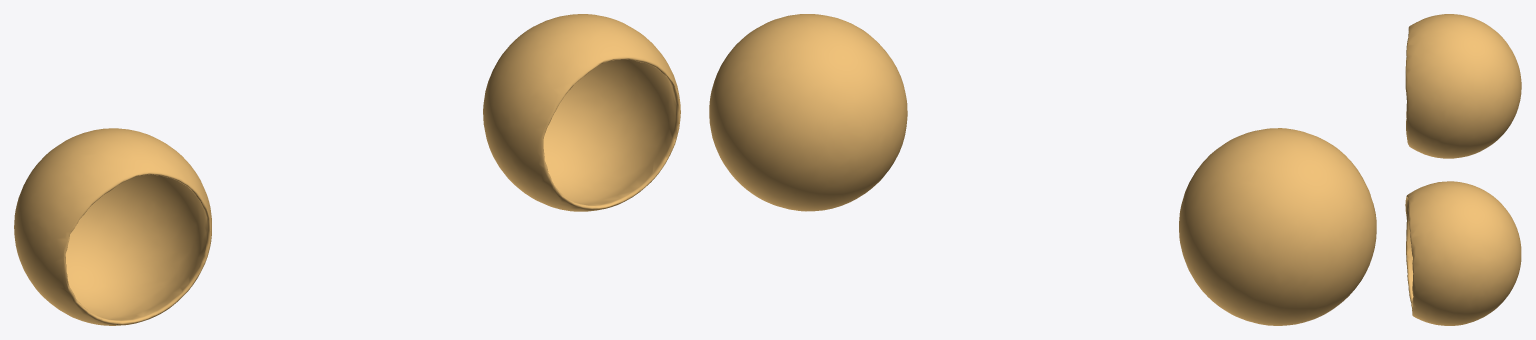
The model's file is retina.glb.
3 renders of one model, left to right at view 1: azimuth 30°, elevation 25°; view 2: azimuth 150°, elevation 25°; view 3: azimuth 270°, elevation 25°, orthographic. The views are drawn at different scales.
Parts seen in each view (by area): view 1: retina; view 2: retina; view 3: retina.
Part boxes in pixels (bbox=[...]): retina: bbox=[14, 14, 680, 325]; retina: bbox=[709, 14, 1376, 325]; retina: bbox=[1405, 14, 1521, 325].
Bounding box in the file's own units: 0.0814 × 0.0218 × 0.0175.
